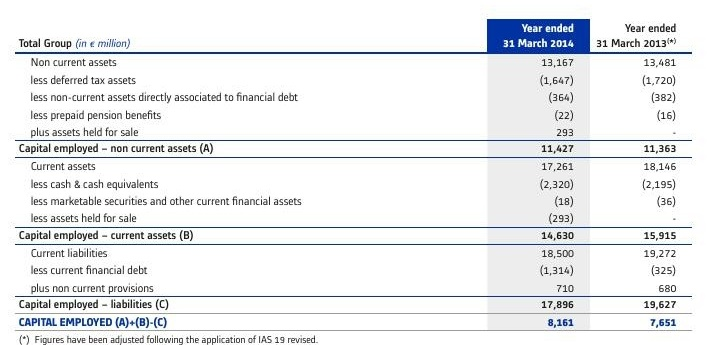table: (0, 0, 713, 345)
